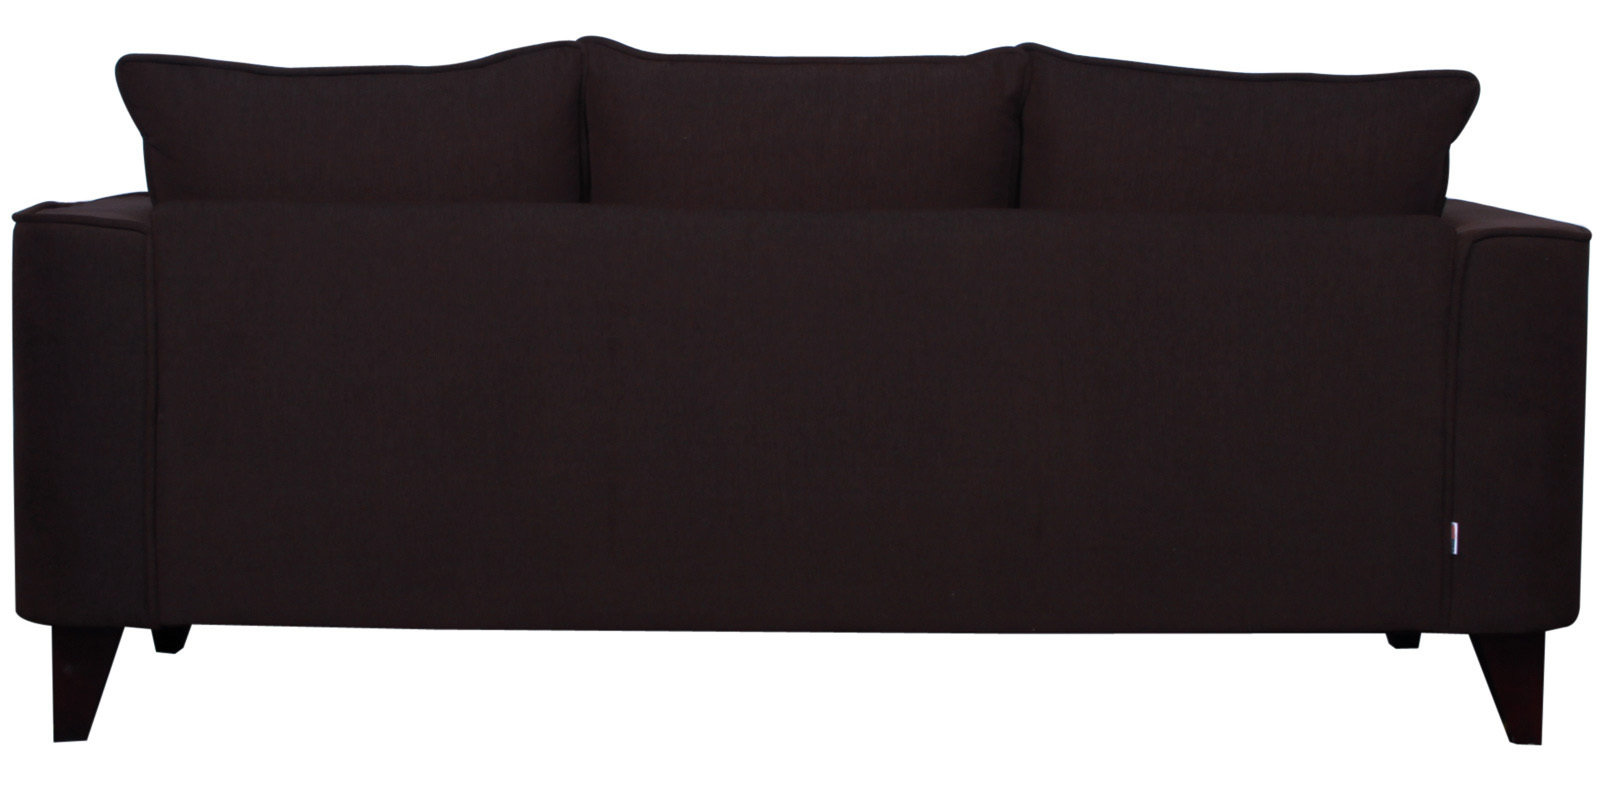Lara Three Seater Sofa in Chestnut Brown Colour by CasaCraft: (10, 36, 1592, 744)
